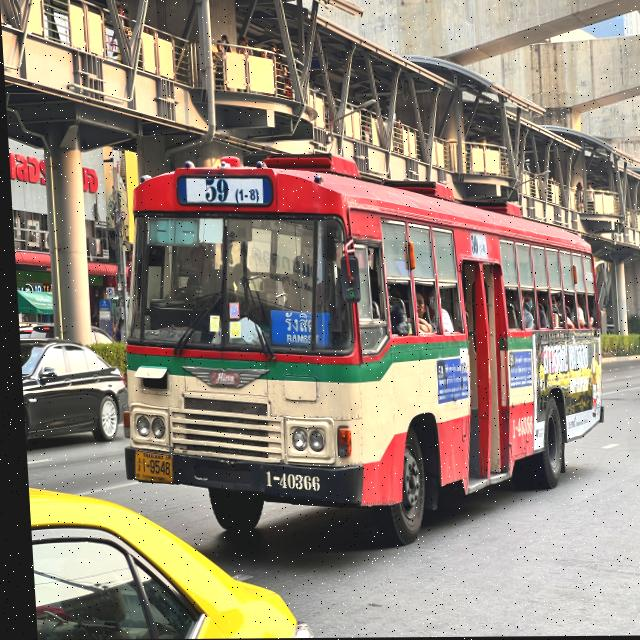BMTA-bus: (95, 139, 614, 554)
Bus Line Number: (174, 175, 273, 207)
Bus Side Number: (254, 468, 322, 496)
Destination Sign: (264, 309, 330, 353)
